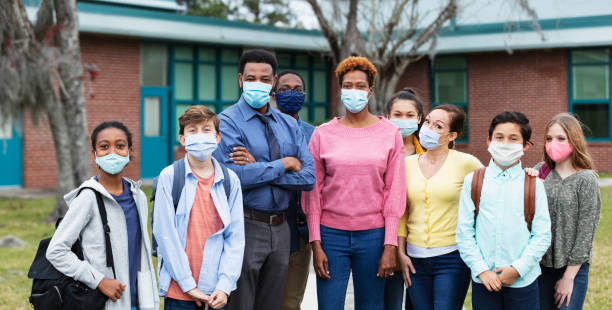with mask: (83, 121, 133, 174), (333, 59, 382, 113), (171, 116, 225, 163), (487, 123, 528, 168), (236, 59, 273, 106), (277, 66, 311, 116), (544, 118, 580, 164), (419, 110, 453, 153), (387, 97, 420, 134)
